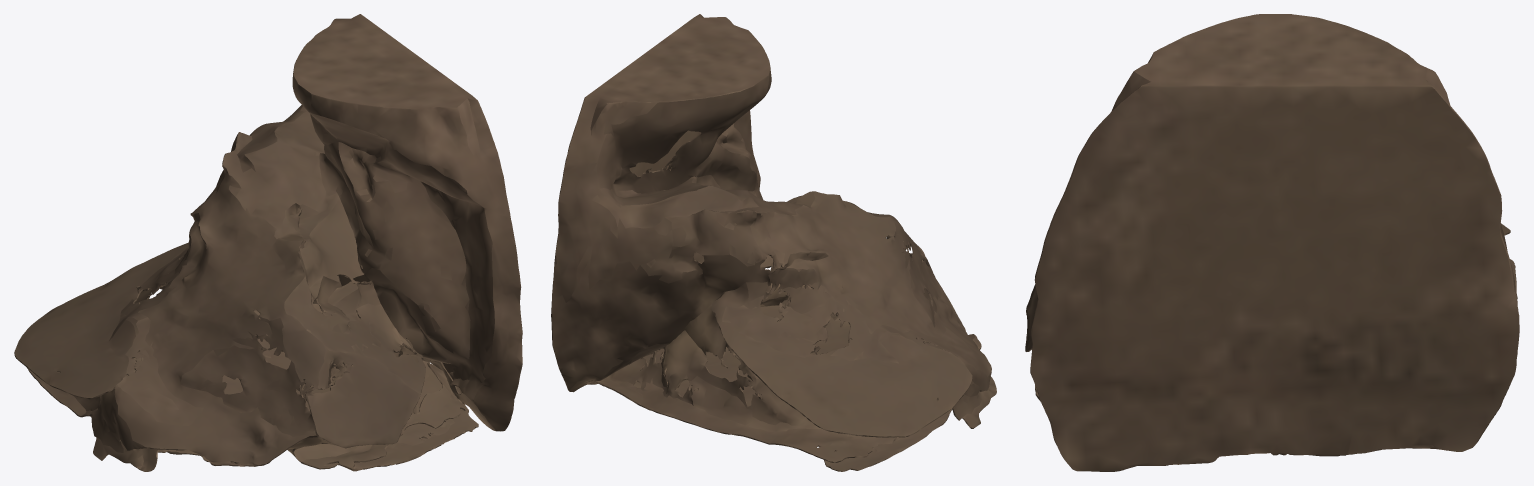
The picture shows the model from 3 angles, left to right: view 1: azimuth 30°, elevation 25°; view 2: azimuth 150°, elevation 25°; view 3: azimuth 270°, elevation 25°; orthographic projection. The views are drawn at different scales.
Visible parts, largest first — view 1: world; view 2: world; view 3: world.
Part boxes in pixels (left/top/right/bottom): world: left=14, top=14, right=522, bottom=471; world: left=551, top=14, right=996, bottom=471; world: left=1025, top=14, right=1519, bottom=471.
Size of the model in its own units: 0.45 by 0.3884 by 0.4504.
1 material, 1 textured.
